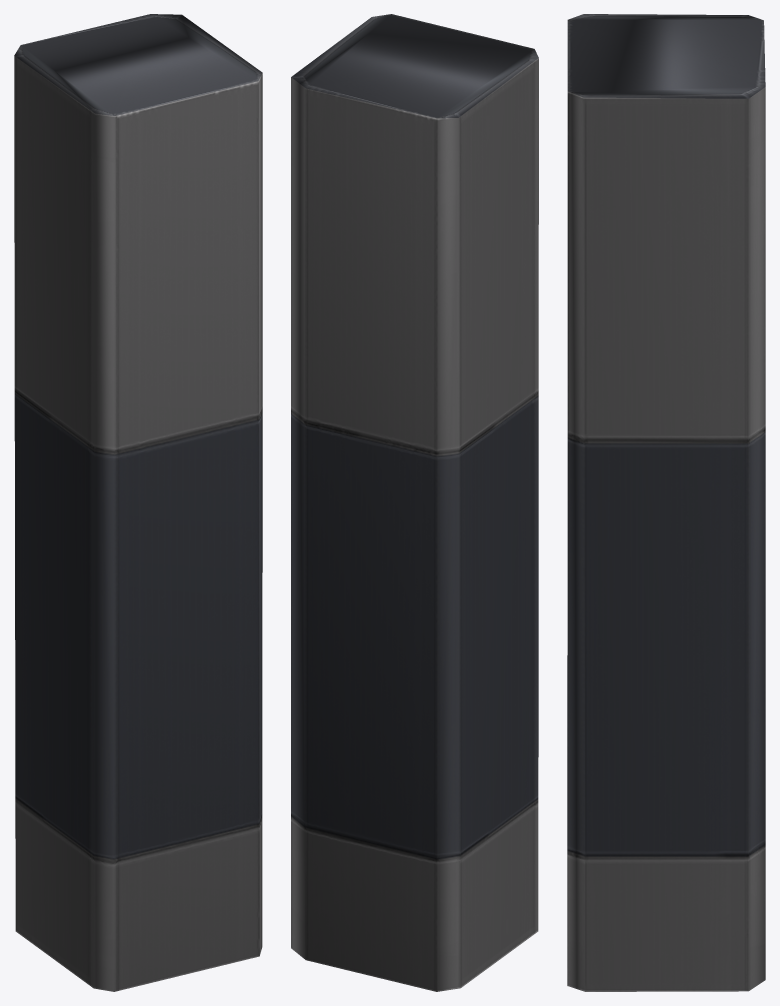
The model's file is Poutre2.fbx.
3 views of the same model, side by side, from view 1: azimuth 30°, elevation 25°; view 2: azimuth 150°, elevation 25°; view 3: azimuth 270°, elevation 25° (orthographic). The views are drawn at different scales.
Visible parts, largest first — view 1: Low_poutre2:RetopoGroup1; view 2: Low_poutre2:RetopoGroup1; view 3: Low_poutre2:RetopoGroup1.
Part boxes in pixels (x1,y1,x2,y2): Low_poutre2:RetopoGroup1: (14, 14, 262, 991); Low_poutre2:RetopoGroup1: (291, 14, 538, 991); Low_poutre2:RetopoGroup1: (567, 14, 765, 991).
Size of the model in its own units: 102 by 509 by 102.
